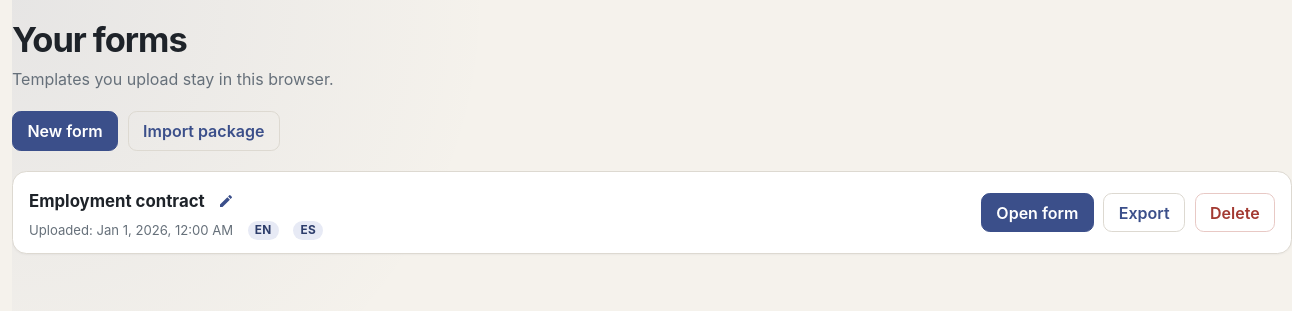
Test case: LibraryPage › deletes a form after confirmation
Click the button "Delete". click: (1235, 213)
box: [1195,193,1275,232]
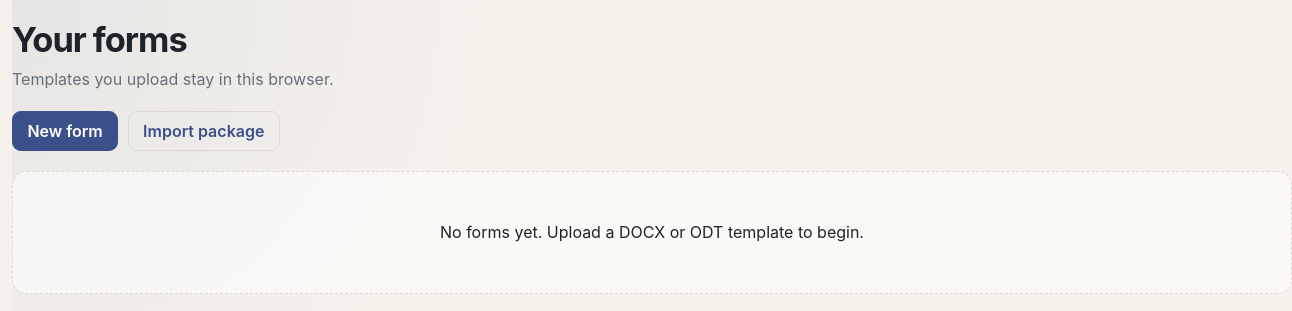
Now the text "No forms yet. Upload a DOCX or ODT template to begin." is shown, box [440,222,864,242]
